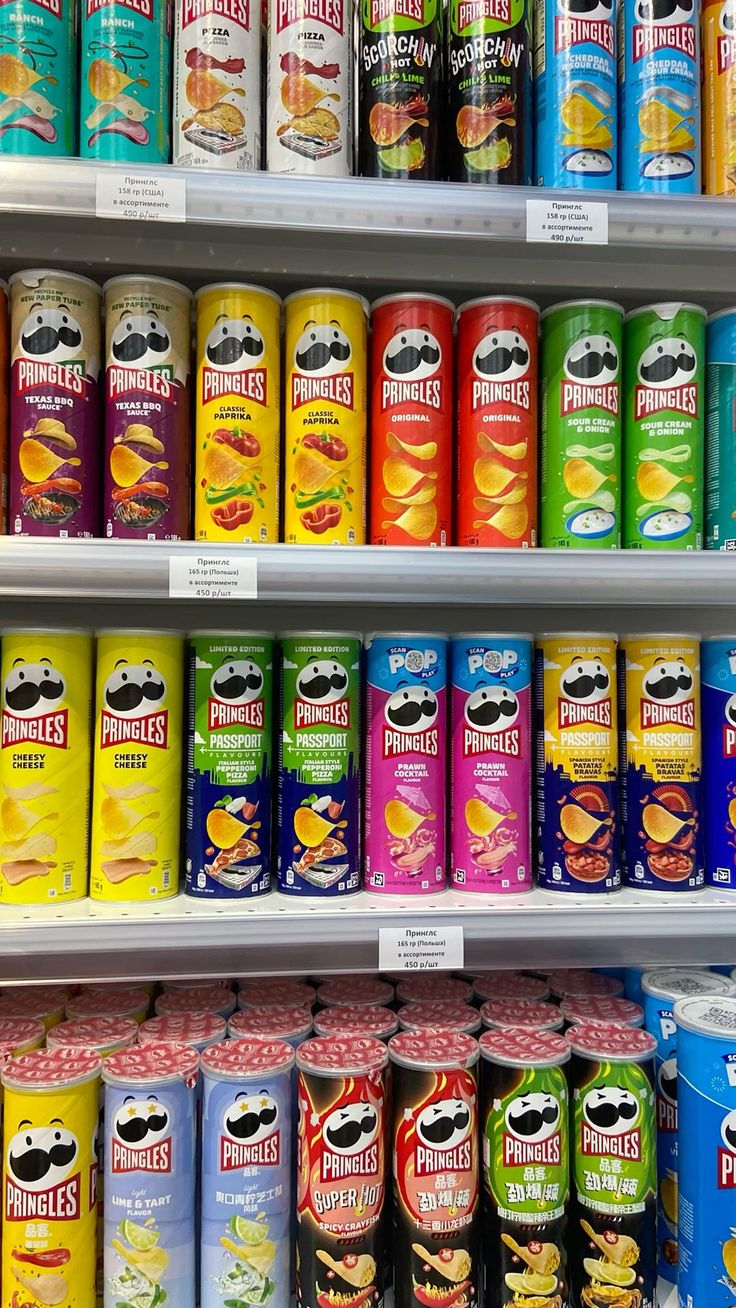Pringles: (75, 650, 189, 764), (366, 345, 458, 437), (187, 343, 279, 435), (542, 356, 634, 448), (367, 683, 459, 775), (545, 658, 637, 750), (487, 1088, 579, 1180), (200, 1084, 292, 1176)
